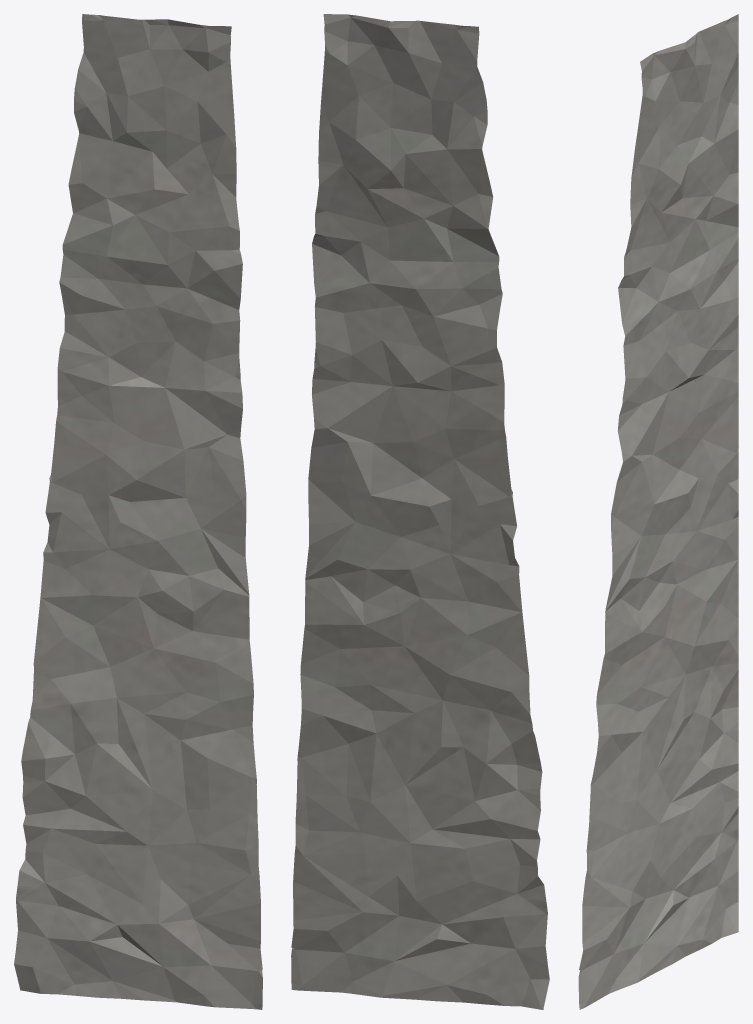
3 views of the same model, side by side, from view 1: azimuth 30°, elevation 25°; view 2: azimuth 210°, elevation 25°; view 3: azimuth 270°, elevation 25° (orthographic). The views are drawn at different scales.
Size of the model in its own units: 0.153 by 0.8374 by 0.1281.
Materials: 1 (1 with a texture image).
